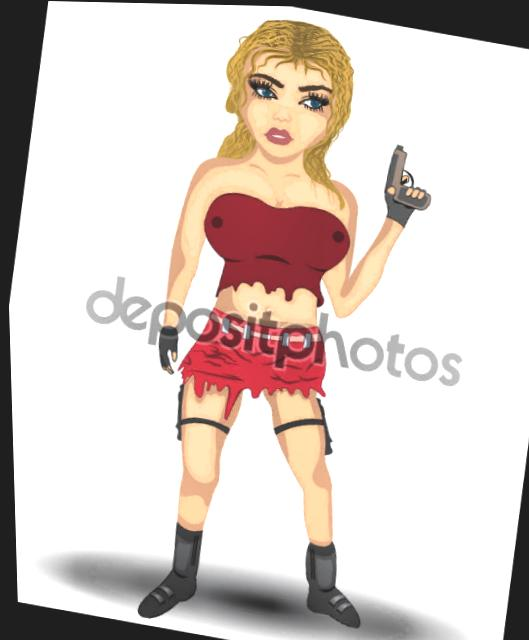pistol: (378, 138, 437, 212)
